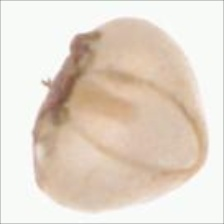L5: (69, 70, 204, 174), (30, 28, 105, 143), (171, 115, 214, 188)
L6: (26, 13, 213, 214)
